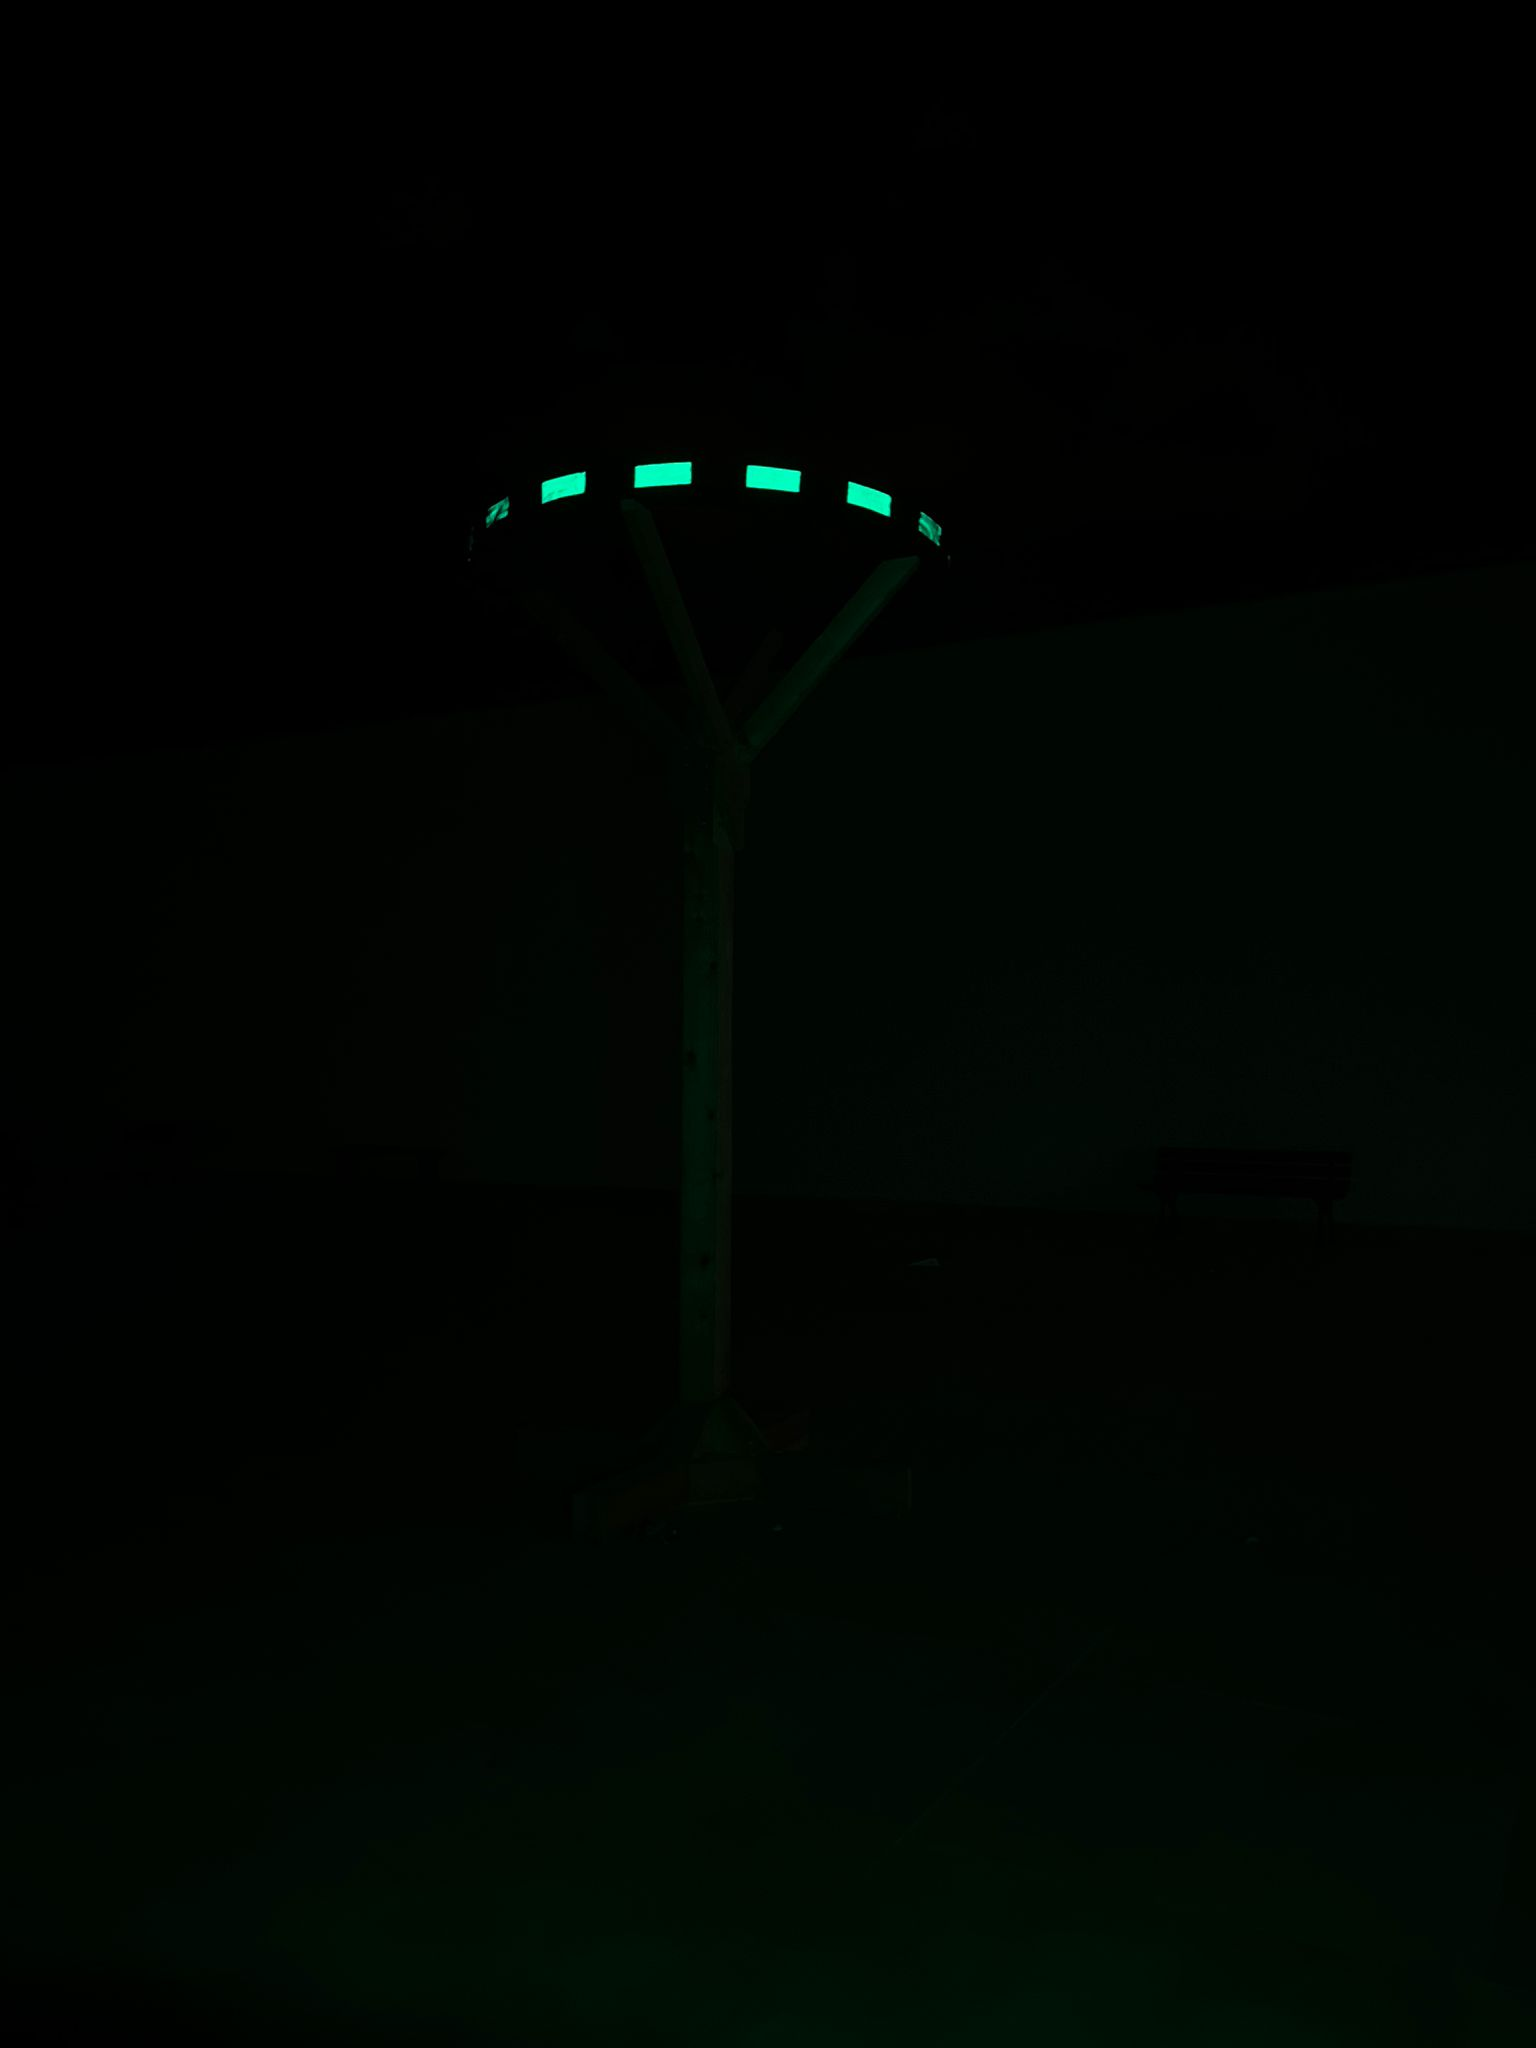hoop: (478, 455, 945, 552)
